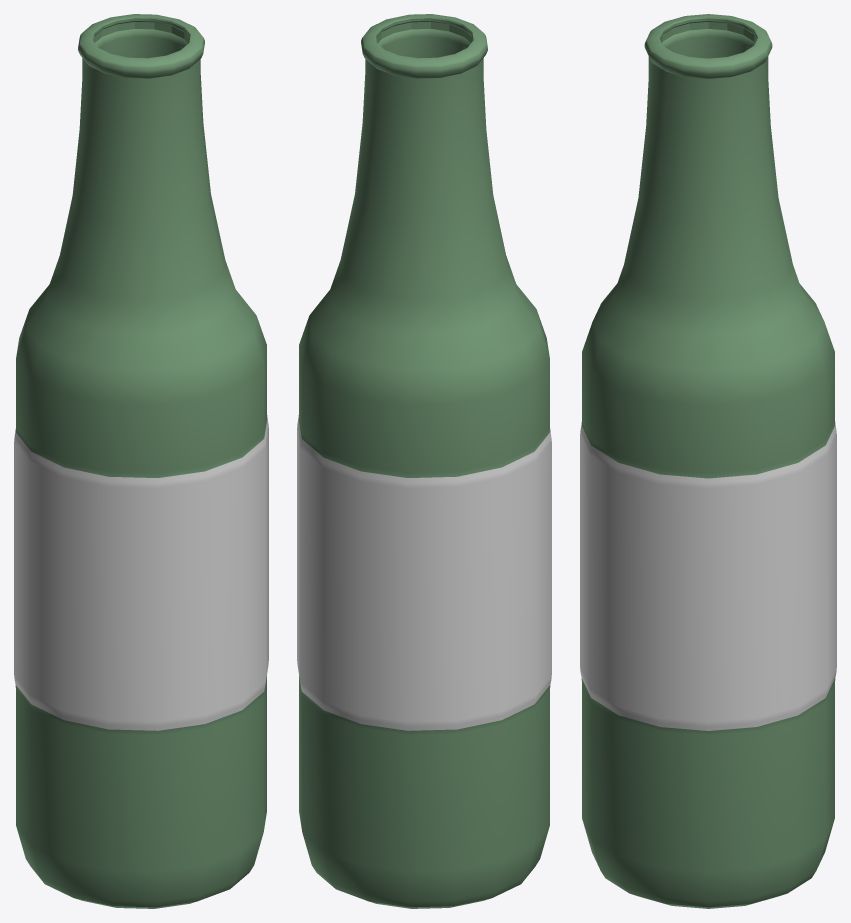
File: Green Bottle.fbx
3 renders of one model, left to right at view 1: azimuth 30°, elevation 25°; view 2: azimuth 150°, elevation 25°; view 3: azimuth 270°, elevation 25°, orthographic.
Parts seen in each view (by area): view 1: pCylinder6; view 2: pCylinder6; view 3: pCylinder6.
Part boxes in pixels (x1,y1,x2,y2): pCylinder6: (14, 14, 268, 908); pCylinder6: (297, 14, 551, 908); pCylinder6: (580, 14, 836, 908).
Size of the model in its own units: 0.4761 by 1.7 by 0.4761.
